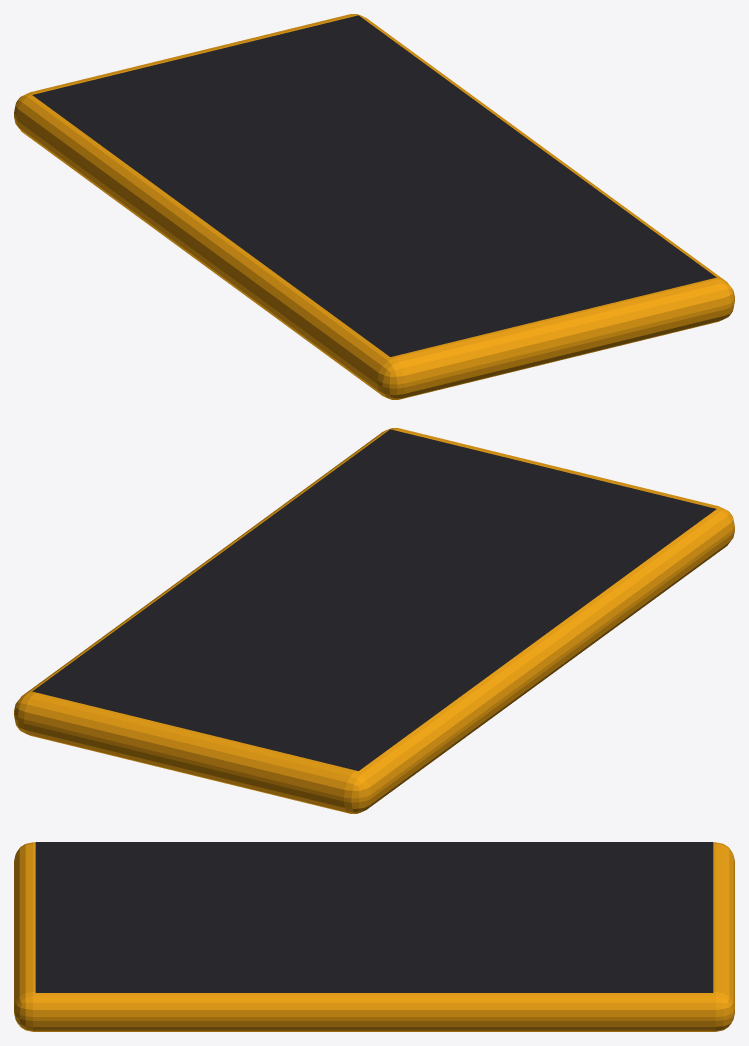
Rendered from Phone_950.glb.
The picture shows the model from 3 angles, top to bottom: view 1: azimuth 30°, elevation 25°; view 2: azimuth 150°, elevation 25°; view 3: azimuth 270°, elevation 25°; orthographic projection. The views are drawn at different scales.
Parts seen in each view (by area): view 1: Phone_Screen, Phone_Body; view 2: Phone_Screen, Phone_Body; view 3: Phone_Screen, Phone_Body.
Part boxes in pixels (x1,y1,x2,y2): Phone_Screen: [32, 15, 716, 356]; Phone_Body: [14, 14, 734, 399]; Phone_Screen: [32, 429, 716, 770]; Phone_Body: [14, 428, 734, 813]; Phone_Screen: [35, 842, 713, 992]; Phone_Body: [14, 842, 734, 1031].
Size of the model in its own units: 0.0761 by 0.0084 by 0.1415.
